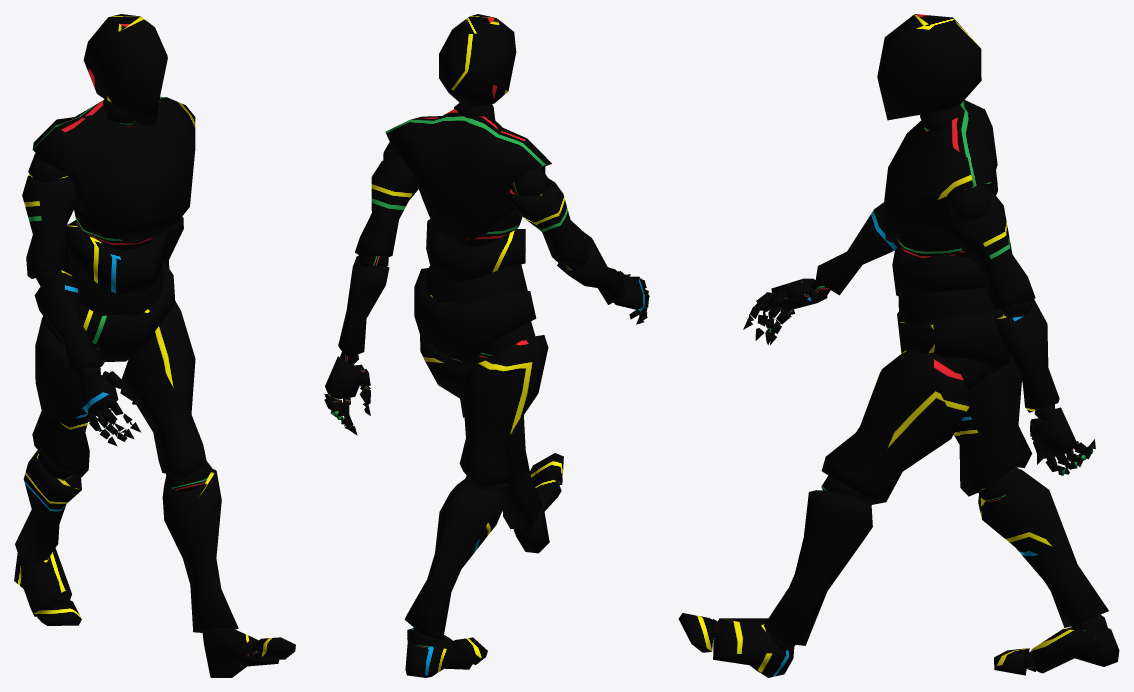
Rendered from y-bot-origin_000019.obj.
3 views of the same model, side by side, from view 1: azimuth 30°, elevation 25°; view 2: azimuth 150°, elevation 25°; view 3: azimuth 270°, elevation 25° (orthographic). The views are drawn at different scales.
Visible parts, largest first — view 1: Alpha_Surface_Alpha_SurfaceMesh, Alpha_Joints_Alpha_JointsMesh; view 2: Alpha_Surface_Alpha_SurfaceMesh, Alpha_Joints_Alpha_JointsMesh; view 3: Alpha_Surface_Alpha_SurfaceMesh, Alpha_Joints_Alpha_JointsMesh.
Boxes of the visible parts, x1,y1,x2,y2 form: Alpha_Surface_Alpha_SurfaceMesh: (14,14,295,677); Alpha_Joints_Alpha_JointsMesh: (28,99,258,660); Alpha_Surface_Alpha_SurfaceMesh: (324,14,649,677); Alpha_Joints_Alpha_JointsMesh: (324,103,648,647); Alpha_Surface_Alpha_SurfaceMesh: (678,14,1119,677); Alpha_Joints_Alpha_JointsMesh: (713,104,1107,671).
Size of the model in its own units: 0.5887 by 1.74 by 1.05.
